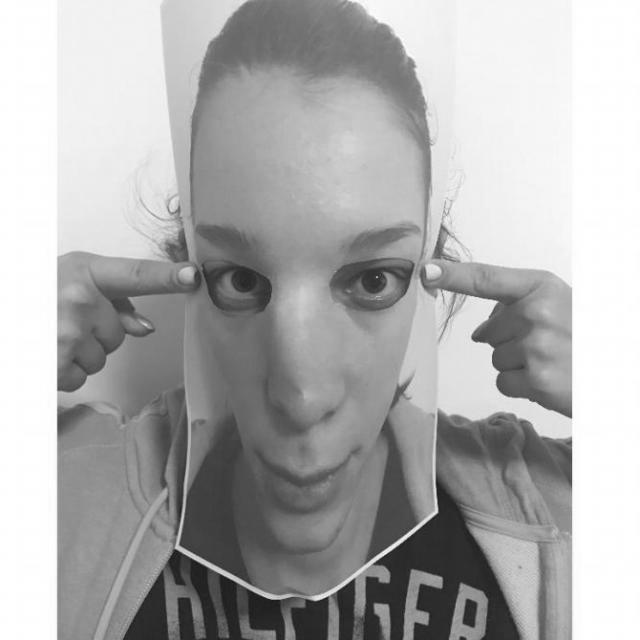fake: (154, 0, 456, 595)
